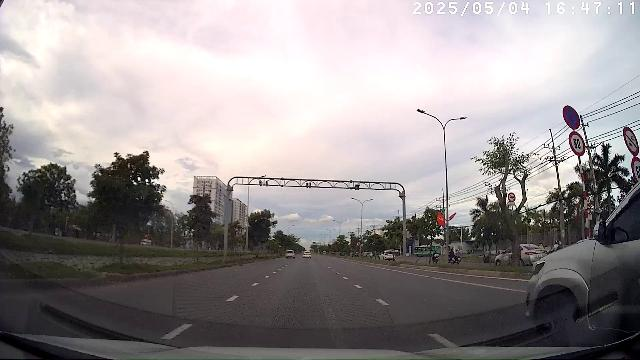127-toc-do-toi-da-80: (568, 131, 585, 156)
130-cam-dung-va-do-xe: (563, 105, 580, 130)
